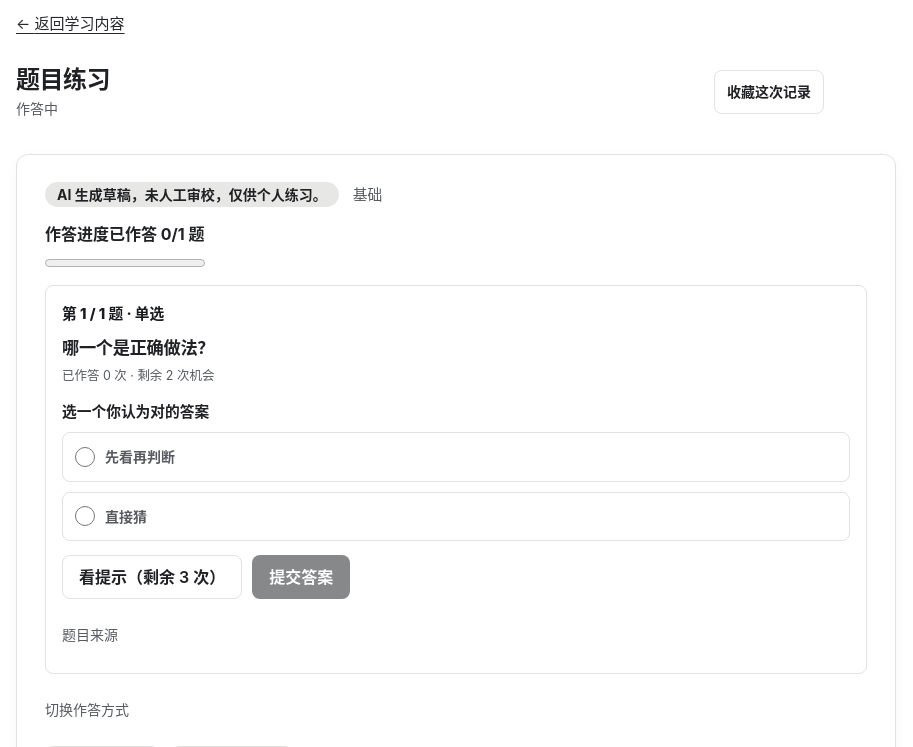
Test: practice entry (T17 J1/J8) › stores favorites for the actual record through the owner-scoped API
The image size is (913, 747).
Step 1. Click the button "收藏这次记录" → (769, 92), box [714,70,824,114]
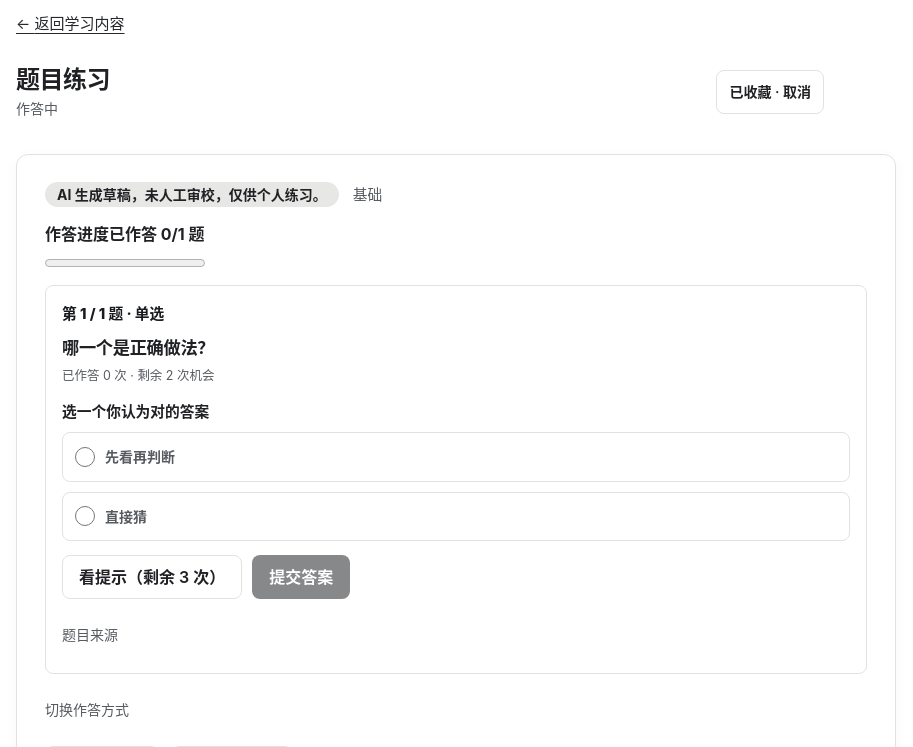
Expected: the button "已收藏 · 取消" is shown, [716,70,824,114]
